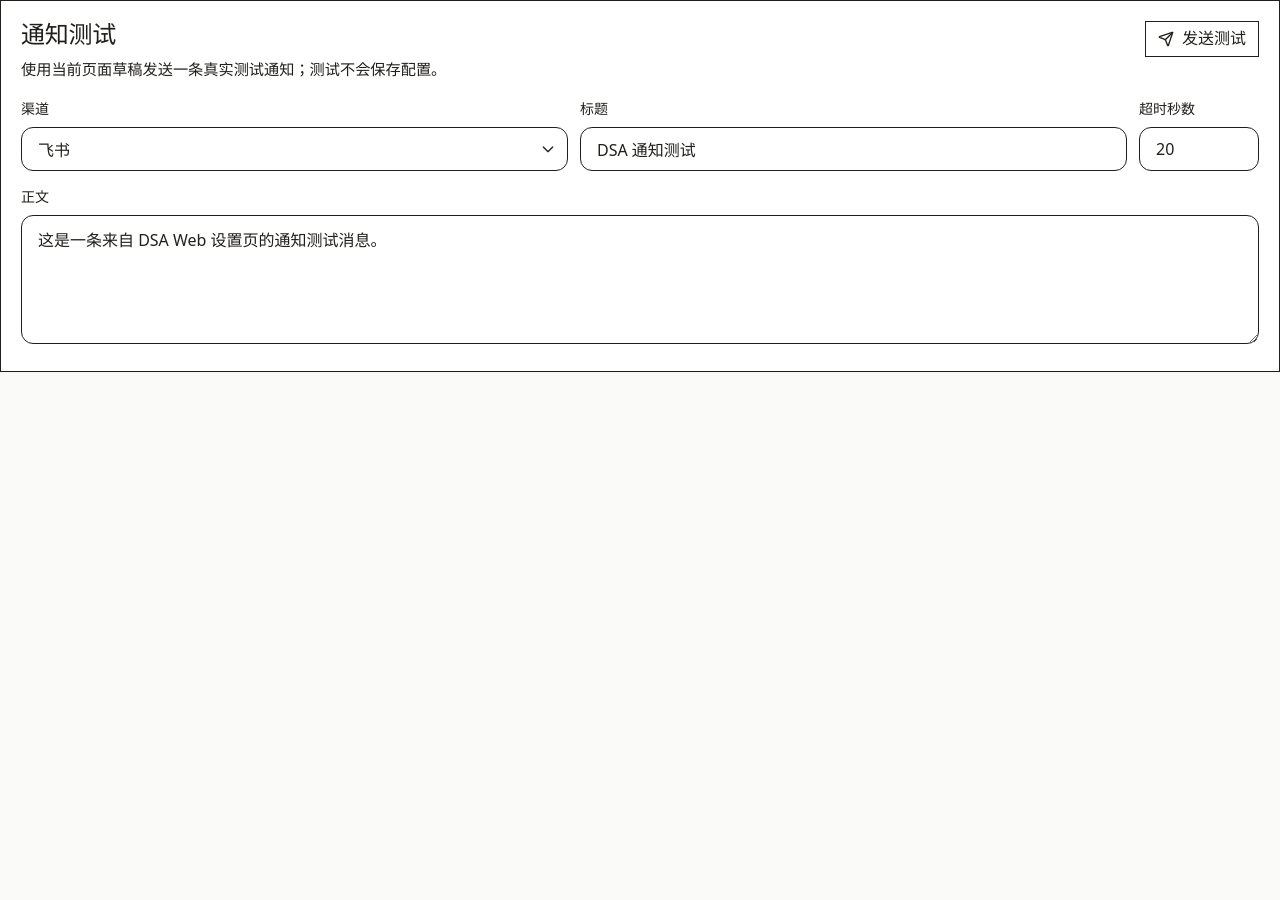
Test: NotificationTestPanel › renders custom webhook partial failure attempts
Step 1. Select "custom" in the dropdown labelled "渠道" → (294, 149), box 21,127 -> 568,171
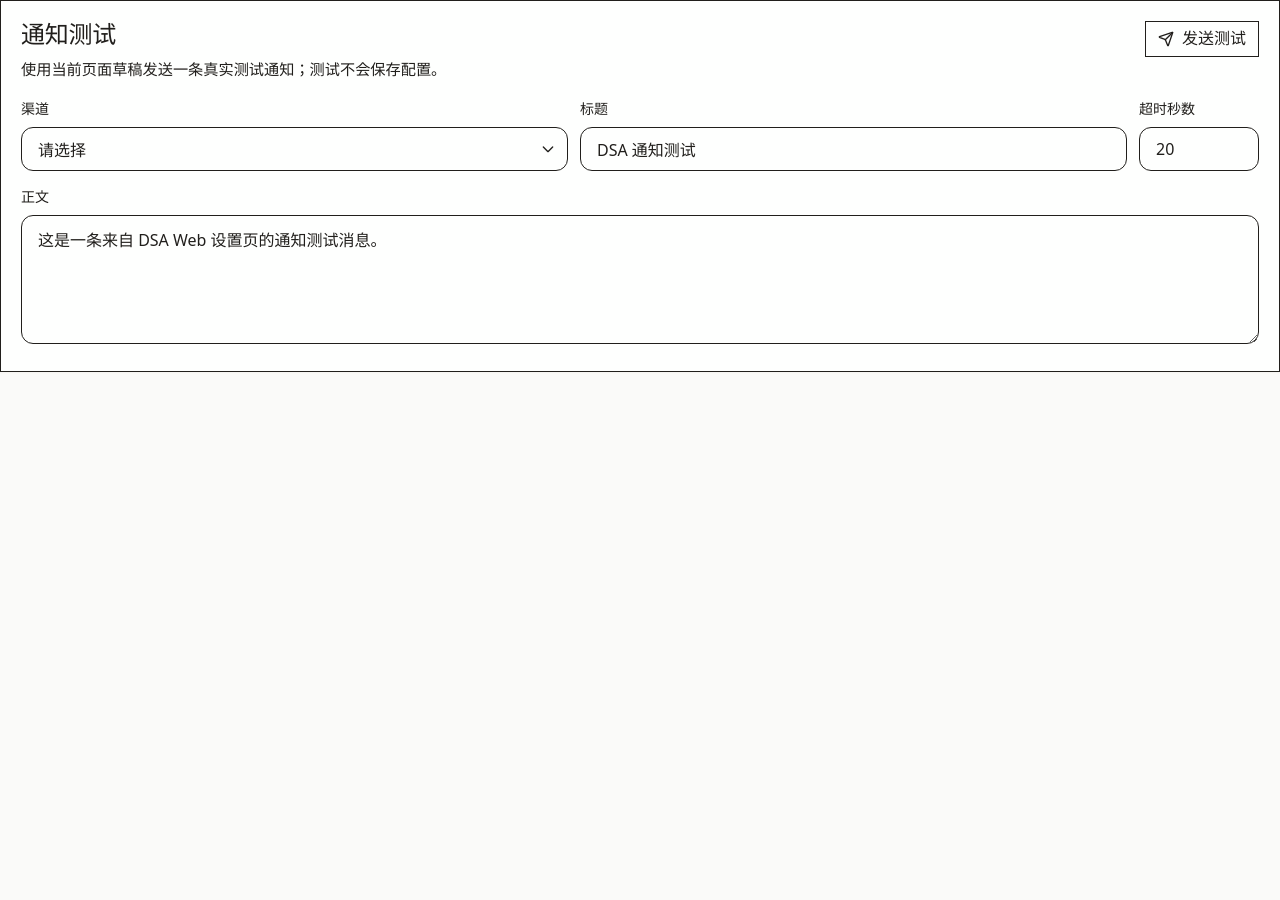
Step 2. Click the button "发送测试" → (1202, 39), box 1145,21 -> 1259,57
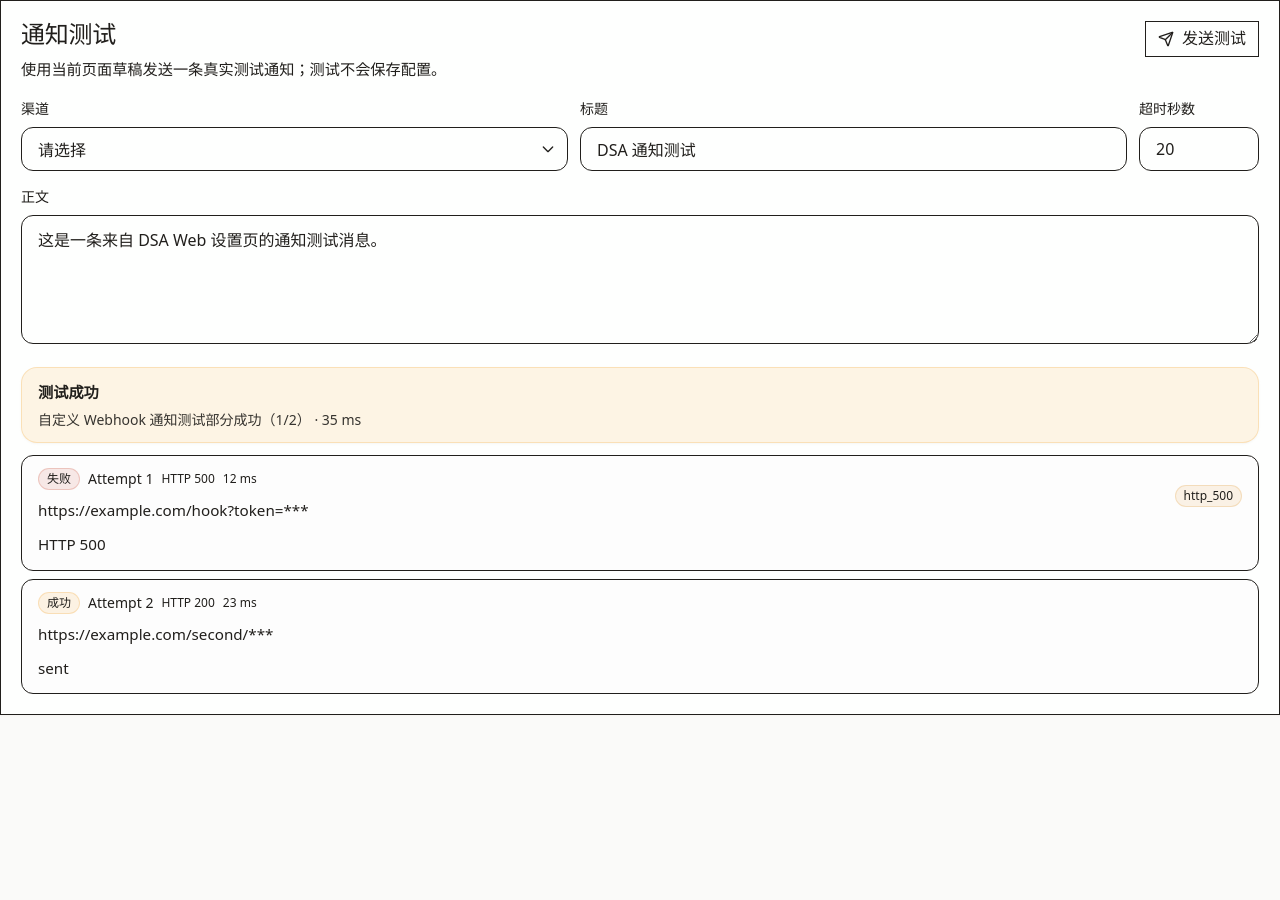
Expected: the text "测试成功" is shown, 38,382 -> 99,402
Expected: the text "自定义 Webhook 通知测试部分成功（1/2） · 35 ms" is shown, 38,410 -> 361,429
Expected: the text "HTTP 200" is shown, 161,595 -> 215,611
